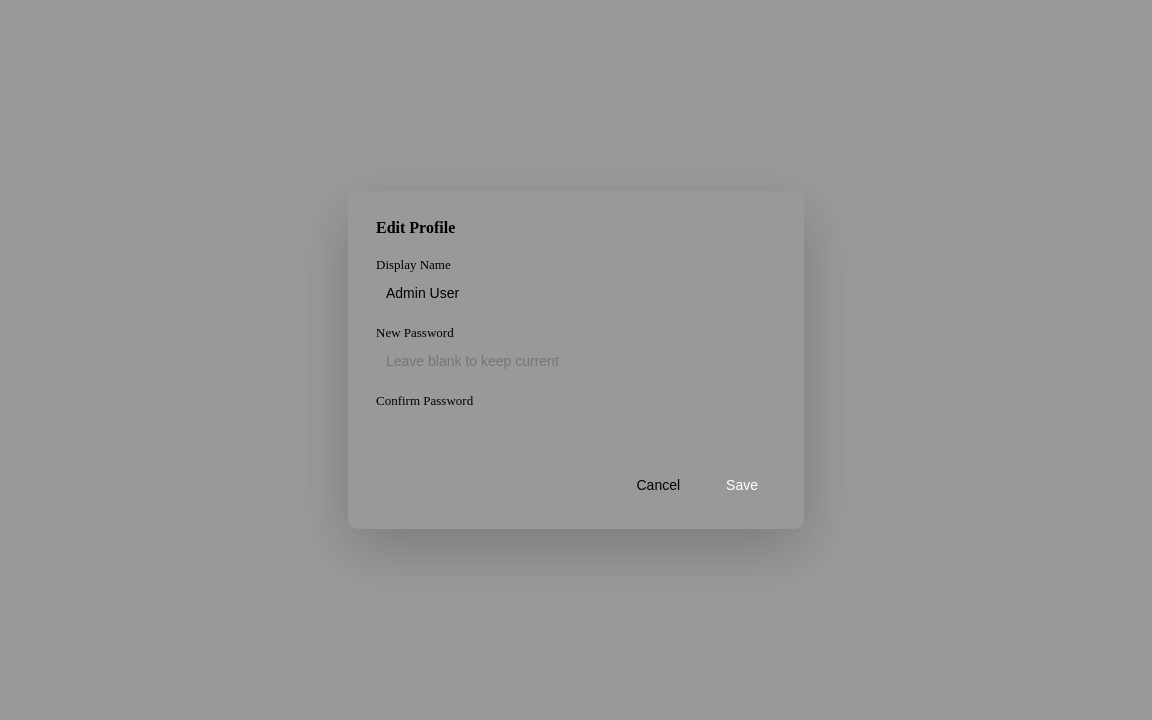
Scenario: SelfEditProfileModal › shows dismissible error banner on failure
This screenshot has width=1152, height=720.
Replace the text in the field labelled "Display Name" with "New Name": (576, 293) [376, 277, 776, 309]
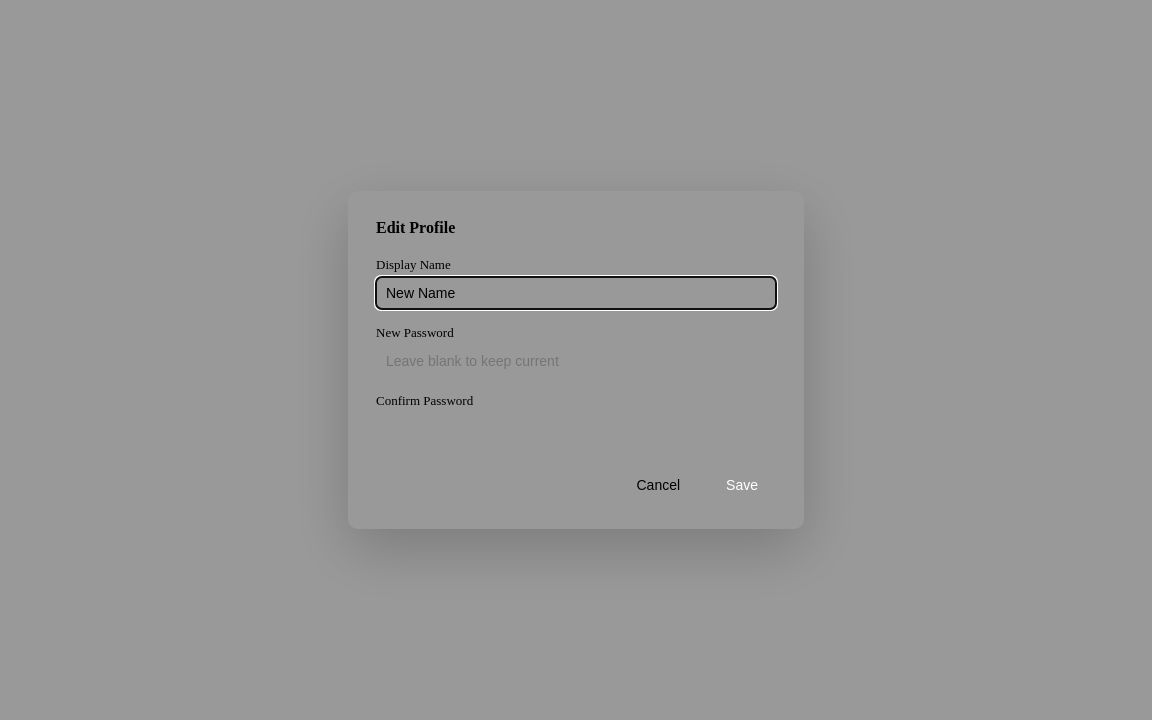
Click the button "Save": (742, 485) [708, 469, 776, 501]
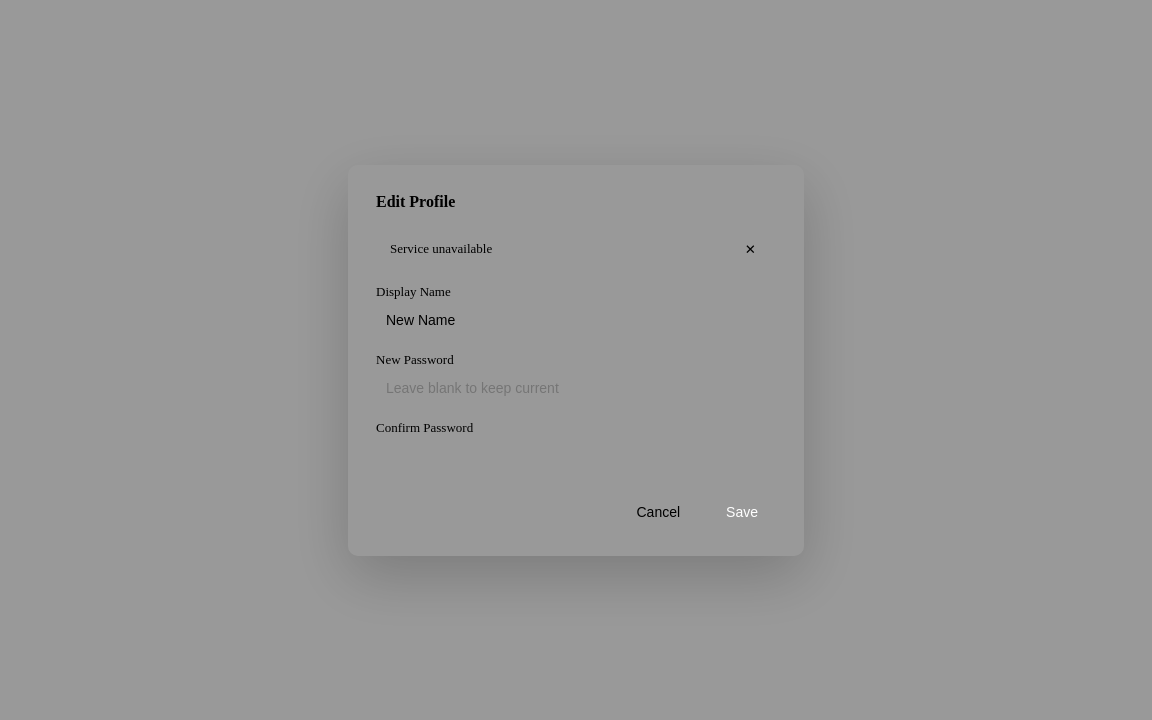
Expected: the message shows "Service unavailable", [390, 241, 492, 256]
